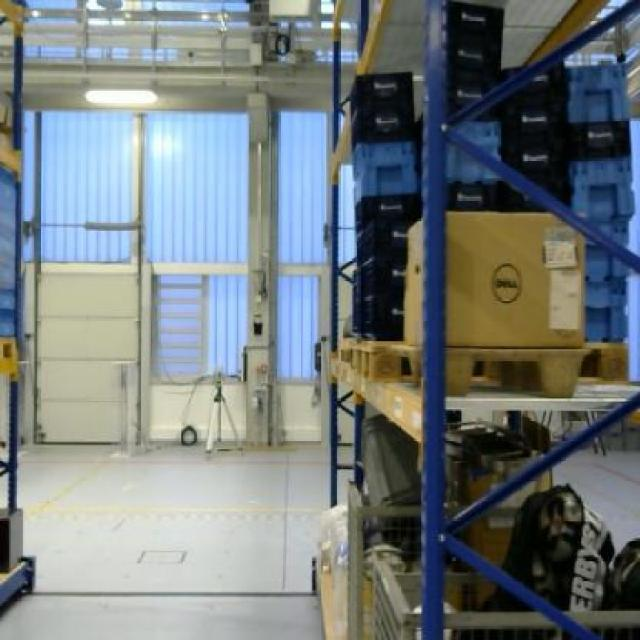box: (399, 209, 584, 348)
